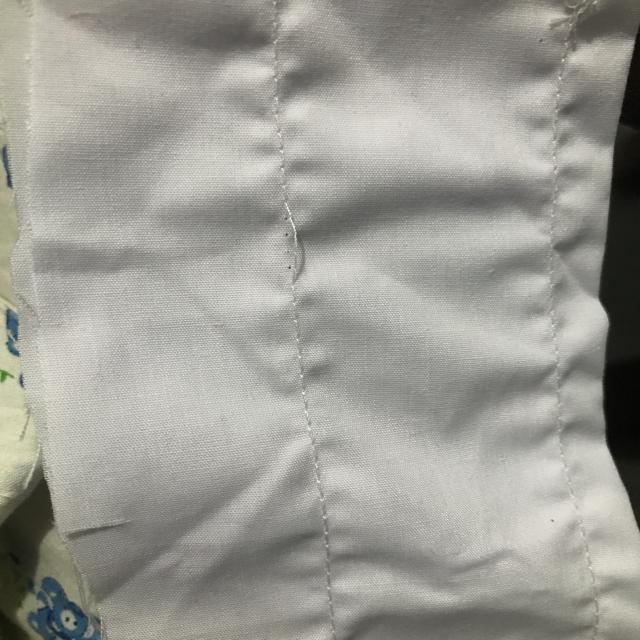good: (284, 337, 330, 466)
skip: (262, 182, 326, 293)
